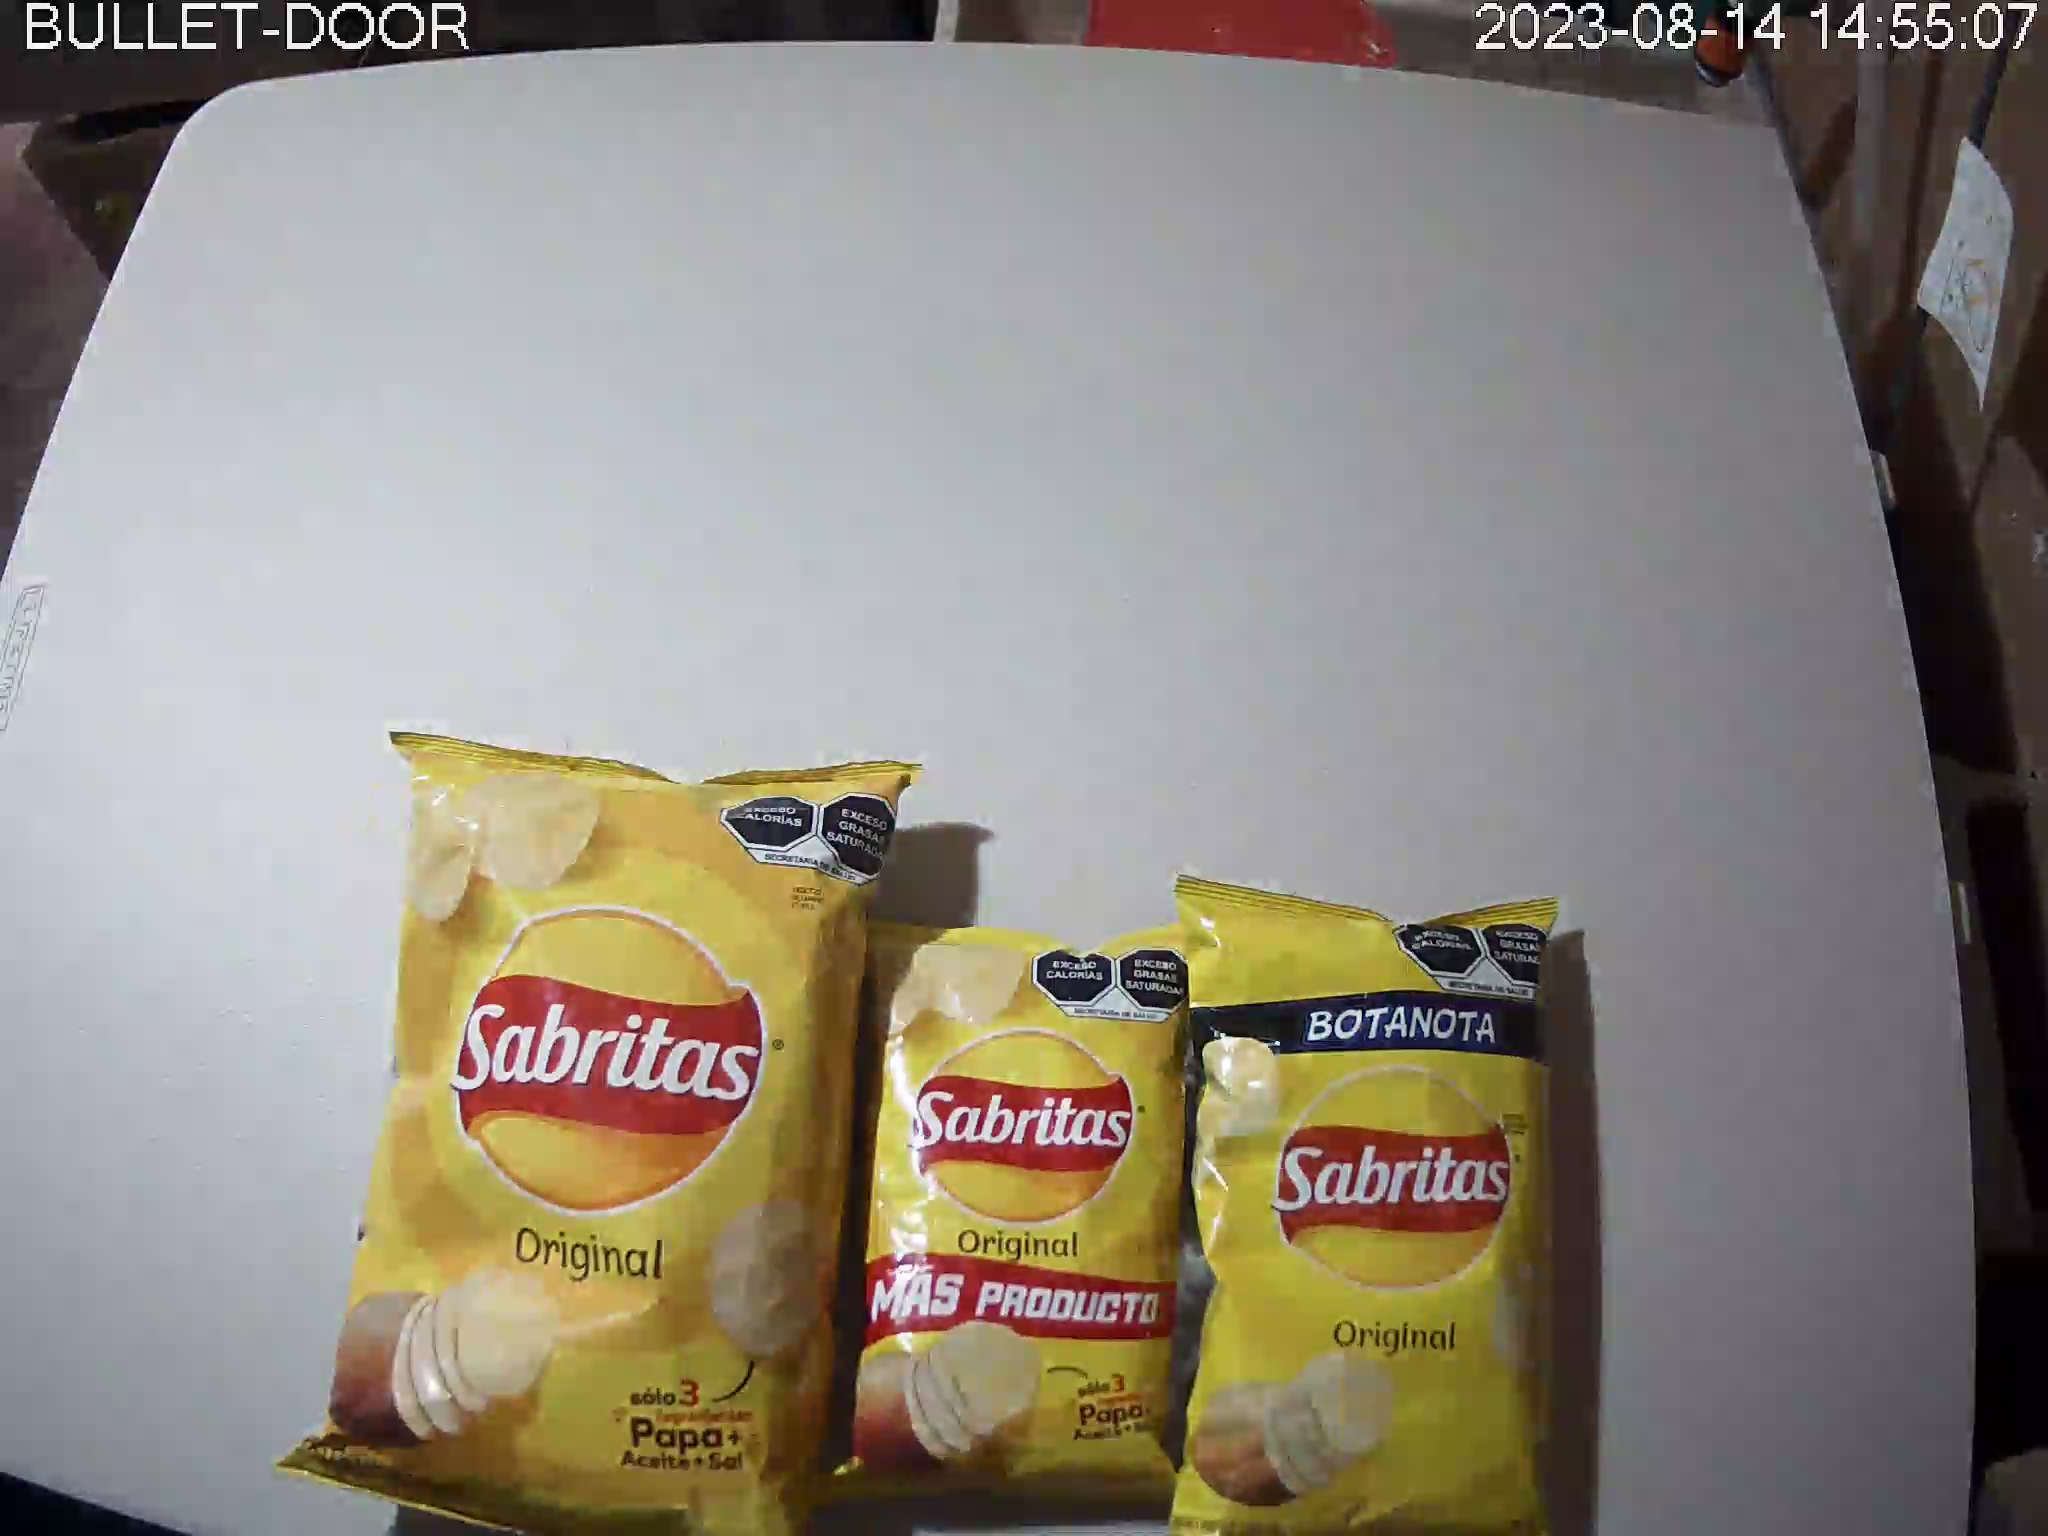Sabritas_160_F: (273, 731, 922, 1536)
Sabritas_45_F: (824, 921, 1209, 1512)
Sabritas_64_F: (1164, 871, 1561, 1536)
